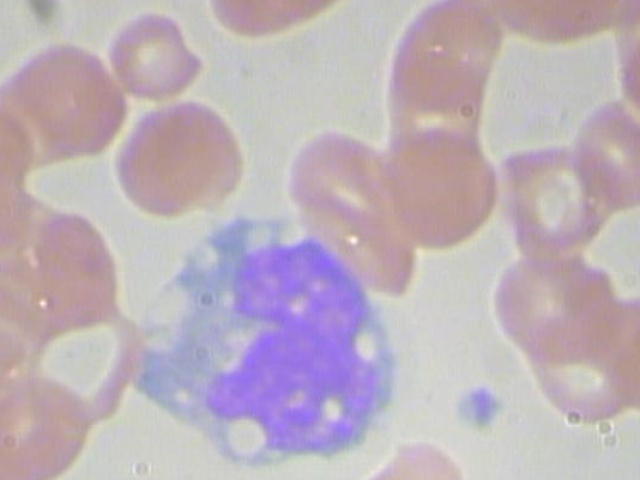Platelets: (455, 377, 509, 436)
RBC: (372, 118, 504, 251), (490, 238, 612, 364), (7, 42, 130, 166), (108, 105, 222, 226), (527, 315, 640, 429), (22, 200, 123, 319), (25, 197, 125, 317), (0, 360, 93, 480), (99, 4, 202, 102), (568, 95, 640, 217), (487, 0, 618, 48), (201, 0, 307, 40)
WBC: (126, 216, 407, 464)
